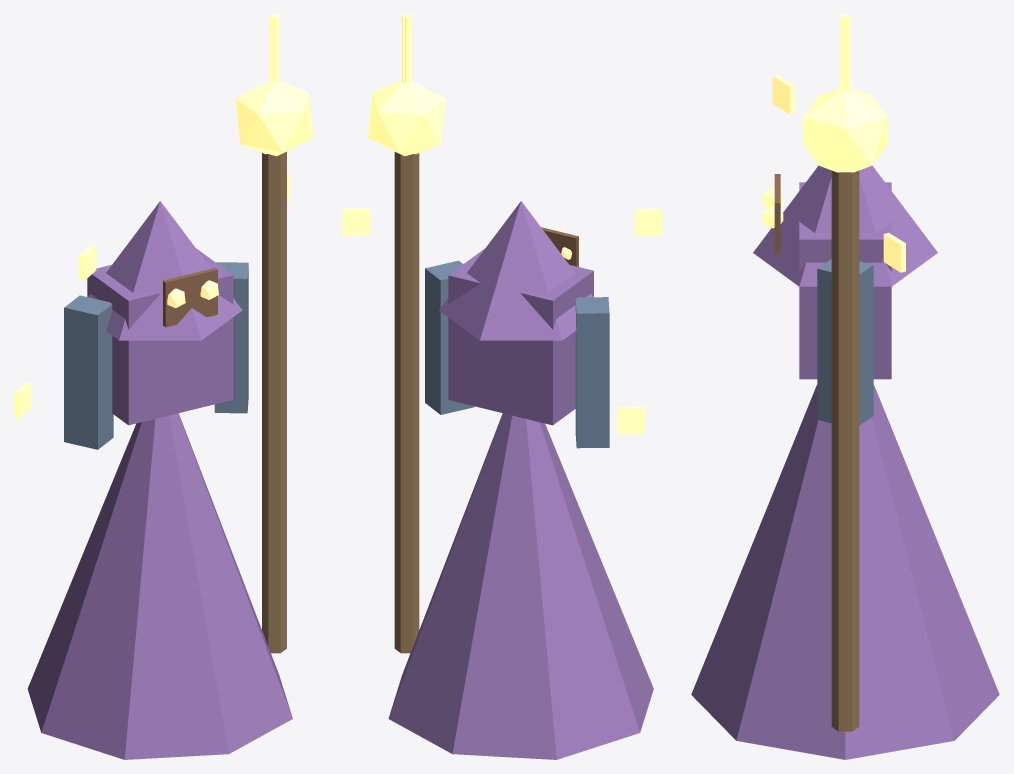
Rendered from stormcaller.glb.
3 views of the same model, side by side, from view 1: azimuth 30°, elevation 25°; view 2: azimuth 150°, elevation 25°; view 3: azimuth 270°, elevation 25° (orthographic). The views are drawn at different scales.
Parts seen in each view (by area): view 1: robe, staff, torso.003, hood.002, arm_l.005, orb, arm_r.005, shade.001, rune_0, rune_2; view 2: robe, staff, torso.003, hood.002, arm_l.005, orb, arm_r.005, rune_1, rune_2, rune_0, shade.001; view 3: robe, staff, hood.002, orb, torso.003, arm_r.005, rune_2, rune_1, shade.001.
Part boxes in pixels (x1=…): robe: x1=27, y1=413, x2=292, y2=759; staff: x1=262, y1=151, x2=286, y2=653; torso.003: x1=87, y1=248, x2=233, y2=425; hood.002: x1=88, y1=201, x2=242, y2=340; arm_l.005: x1=64, y1=295, x2=113, y2=449; orb: x1=235, y1=80, x2=313, y2=156; arm_r.005: x1=214, y1=262, x2=248, y2=413; shade.001: x1=163, y1=268, x2=217, y2=327; rune_0: x1=14, y1=382, x2=31, y2=418; rune_2: x1=79, y1=244, x2=96, y2=280; robe: x1=388, y1=413, x2=653, y2=759; staff: x1=394, y1=152, x2=419, y2=653; torso.003: x1=448, y1=248, x2=593, y2=425; hood.002: x1=439, y1=201, x2=593, y2=340; arm_l.005: x1=575, y1=297, x2=609, y2=448; orb: x1=368, y1=80, x2=445, y2=156; arm_r.005: x1=425, y1=260, x2=474, y2=414; rune_1: x1=342, y1=208, x2=370, y2=235; rune_2: x1=634, y1=208, x2=662, y2=236; rune_0: x1=617, y1=406, x2=644, y2=434; shade.001: x1=541, y1=227, x2=578, y2=266; robe: x1=691, y1=384, x2=999, y2=759; staff: x1=831, y1=170, x2=859, y2=731; hood.002: x1=753, y1=165, x2=937, y2=286; orb: x1=803, y1=88, x2=887, y2=172; torso.003: x1=799, y1=182, x2=891, y2=379; arm_r.005: x1=817, y1=259, x2=873, y2=425; rune_2: x1=772, y1=74, x2=794, y2=114; rune_1: x1=883, y1=232, x2=905, y2=272; shade.001: x1=774, y1=174, x2=780, y2=253.
Size of the model in its own units: 1.21 by 2.65 by 1.
